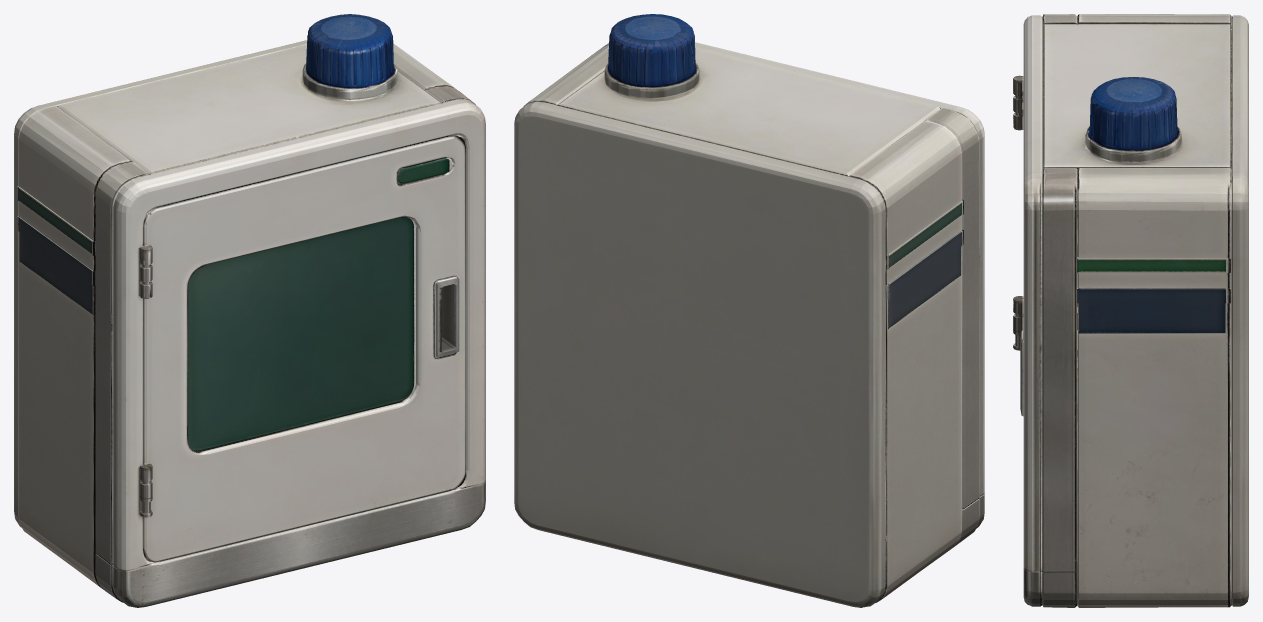
File: spring.fbx
3 views of the same model, side by side, from view 1: azimuth 30°, elevation 25°; view 2: azimuth 150°, elevation 25°; view 3: azimuth 270°, elevation 25° (orthographic).
Visible parts, largest first — view 1: spring; view 2: spring; view 3: spring.
Boxes of the visible parts, box(x1,y1,x2,y2) form: spring: box(14, 14, 485, 607); spring: box(514, 14, 984, 607); spring: box(1013, 14, 1248, 607).
Size of the model in its own units: 1.29 by 1.6 by 0.7045.
1 material, 1 textured.
